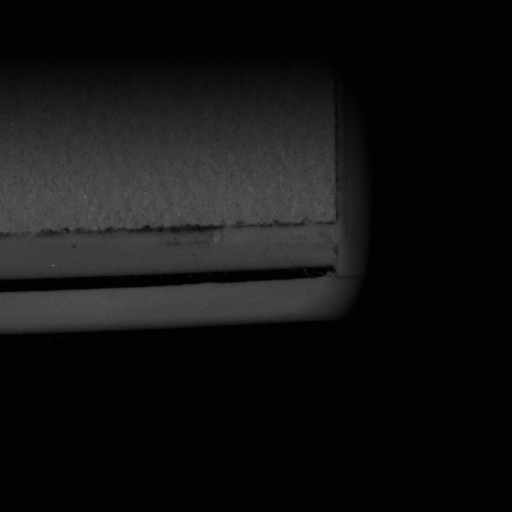kaijiao: (0, 218, 368, 330)
